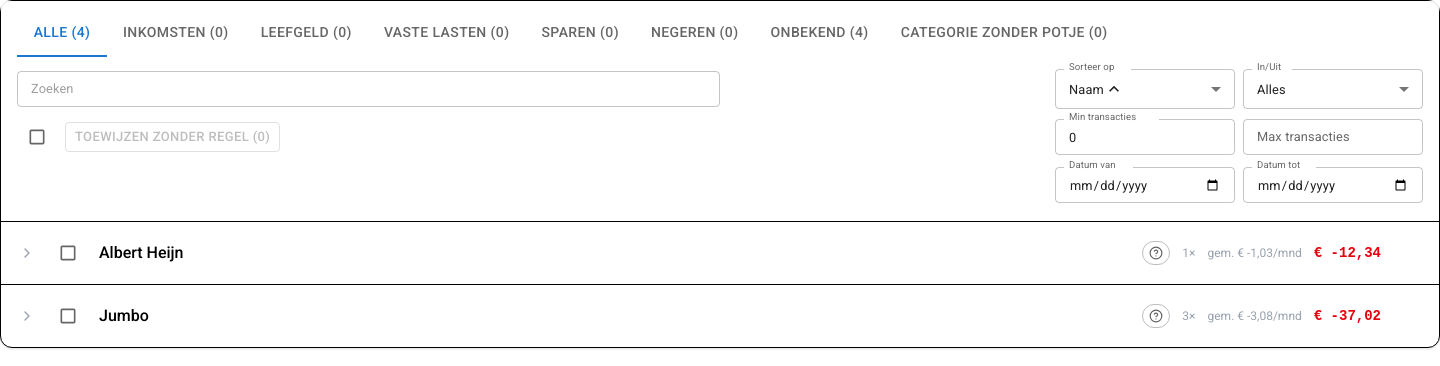
Test: CategoryBreakdown › filters groups by minimum and maximum number of transactions
Replace the text in the number field labelled "Min transacties" with "2" at x=1145, y=137, box x1=1055 y1=119 x2=1235 y2=155
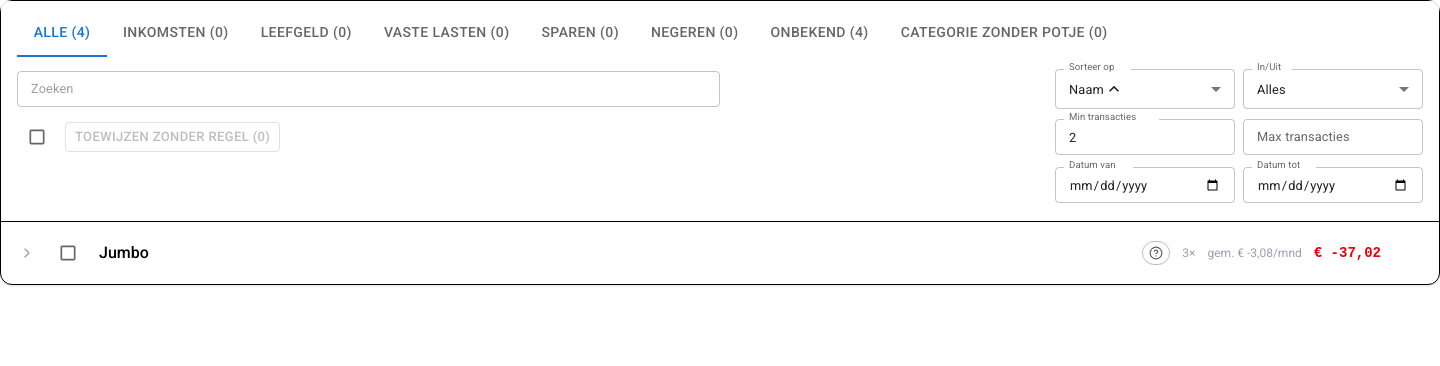
Expected: the text "Jumbo" is shown, x1=99 y1=243 x2=149 y2=262
Now the button "Albert Heijn" is gone
Replace the text in the number field labelled "Min transacties" with "0" at x=1145, y=137, box x1=1055 y1=119 x2=1235 y2=155
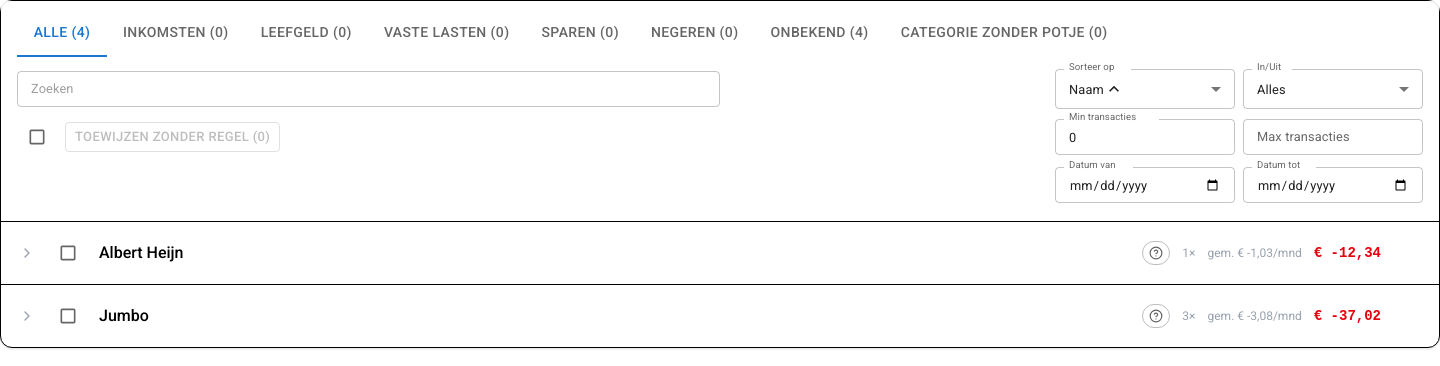
Type "1" into the number field labelled "Max transacties" at x=1333, y=137, box x1=1243 y1=119 x2=1423 y2=155
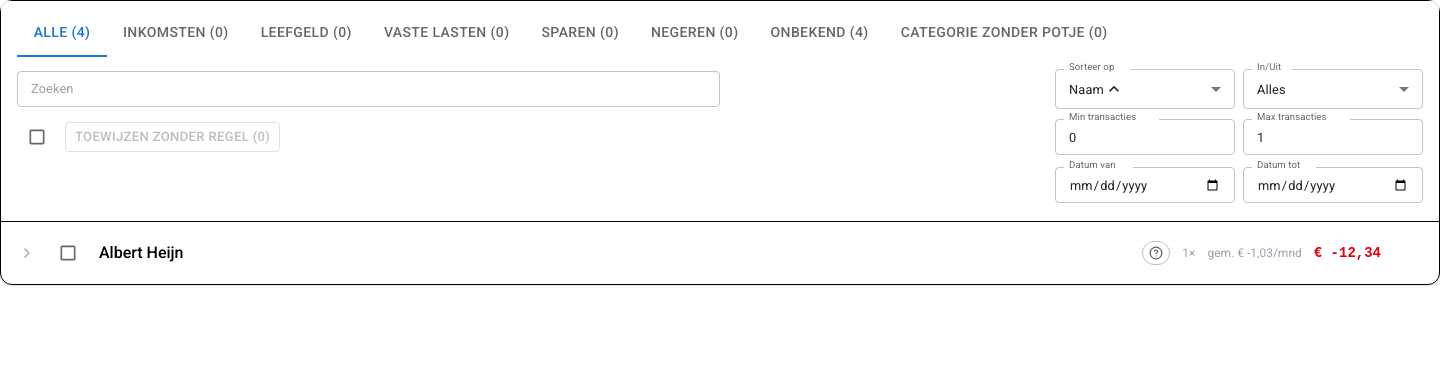
Now the text "Albert Heijn" is shown, box x1=99 y1=243 x2=184 y2=262
Now the button "Jumbo" is gone
